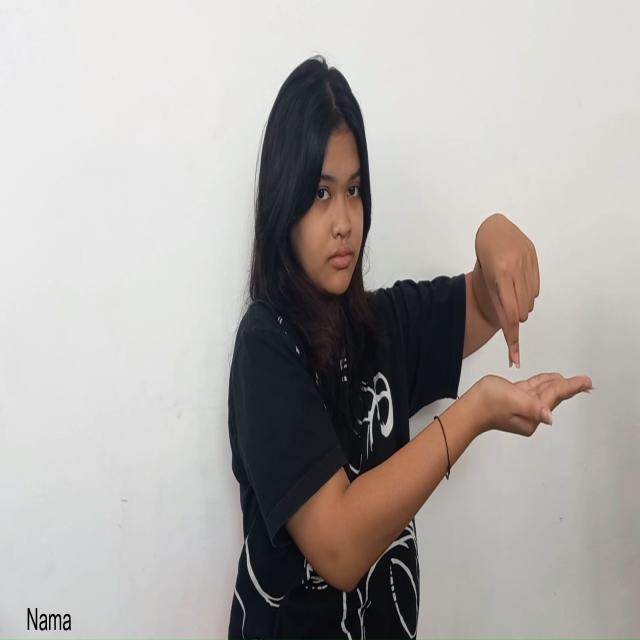Nama -BISINDO-: (475, 212, 594, 438)
